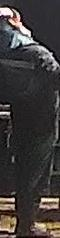vest: (0, 44, 60, 147)
